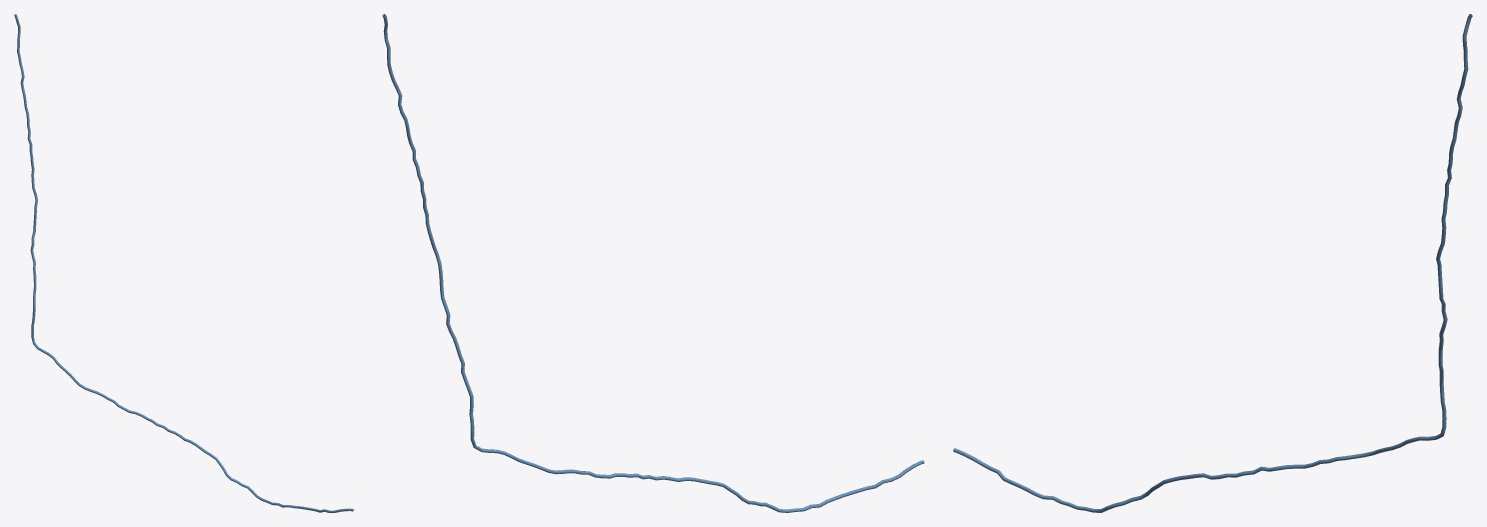
The model's file is sweep175.fbx.
The picture shows the model from 3 angles, left to right: view 1: azimuth 90°, elevation 25°; view 2: azimuth 150°, elevation 25°; view 3: azimuth 270°, elevation 25°; orthographic projection. The views are drawn at different scales.
Parts seen in each view (by area): view 1: sweep175; view 2: sweep175; view 3: sweep175.
Part boxes in pixels (bbox=[...]): sweep175: bbox=[14, 14, 353, 512]; sweep175: bbox=[382, 14, 924, 512]; sweep175: bbox=[953, 14, 1472, 512].
Size of the model in its own units: 1.92 by 3.4 by 2.57.
